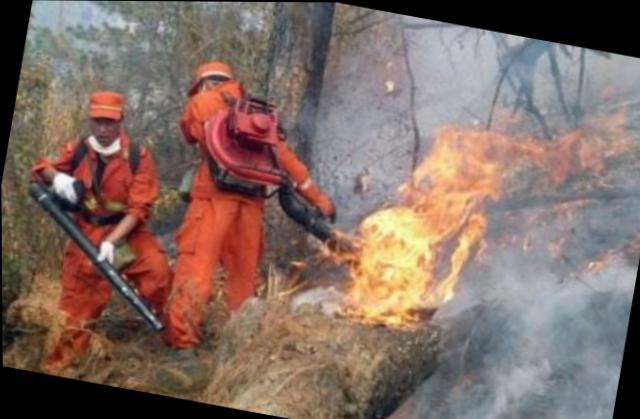fire: (322, 83, 626, 366)
